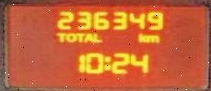0: (85, 51, 102, 73)
1: (77, 52, 84, 73)
2: (112, 51, 129, 74), (55, 10, 73, 29)
3: (76, 10, 91, 30), (112, 10, 127, 29)
4: (129, 52, 148, 72), (128, 10, 145, 29)
6: (92, 10, 108, 30)
9: (146, 10, 163, 29)
X: (64, 31, 75, 42), (92, 32, 104, 42), (55, 30, 64, 43), (146, 33, 159, 42), (103, 54, 109, 72), (75, 31, 84, 42), (137, 32, 145, 42), (84, 32, 91, 42)
